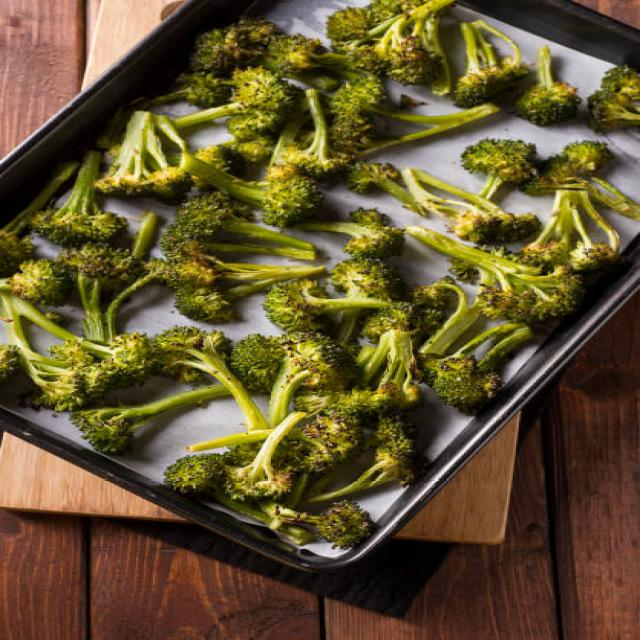Broccoli head: (197, 430, 412, 540), (150, 216, 308, 315), (430, 241, 576, 336), (214, 157, 354, 225), (175, 67, 309, 133), (54, 249, 133, 332), (54, 156, 125, 242), (546, 180, 615, 266), (456, 16, 520, 96), (524, 51, 587, 127), (467, 142, 528, 201)
